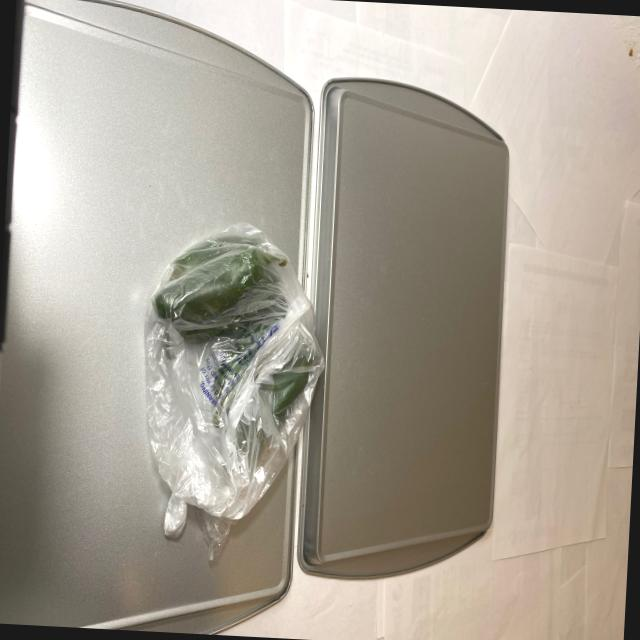chilli: (144, 225, 325, 450)
